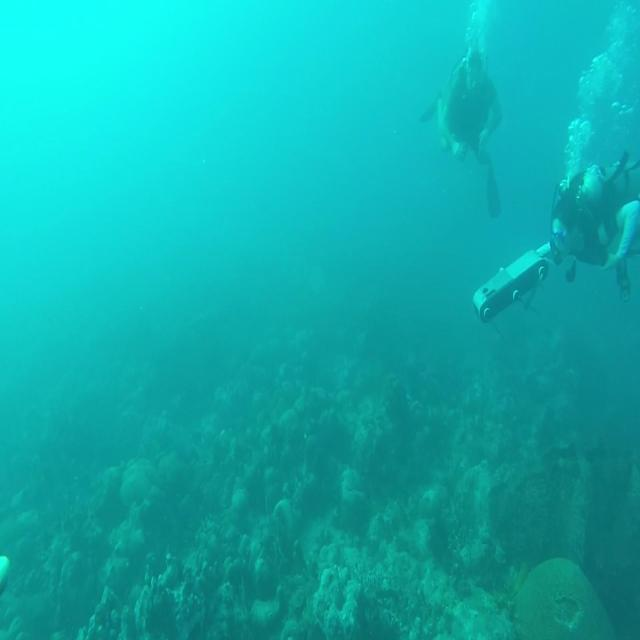human: (420, 41, 502, 217), (548, 147, 639, 296)
